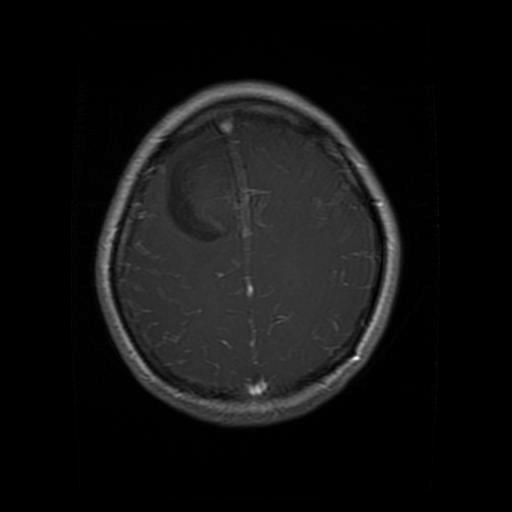Tumour-Glioma: (160, 148, 248, 246)
